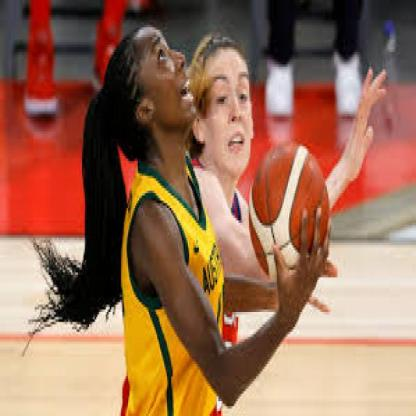basketball: (249, 139, 331, 284)
